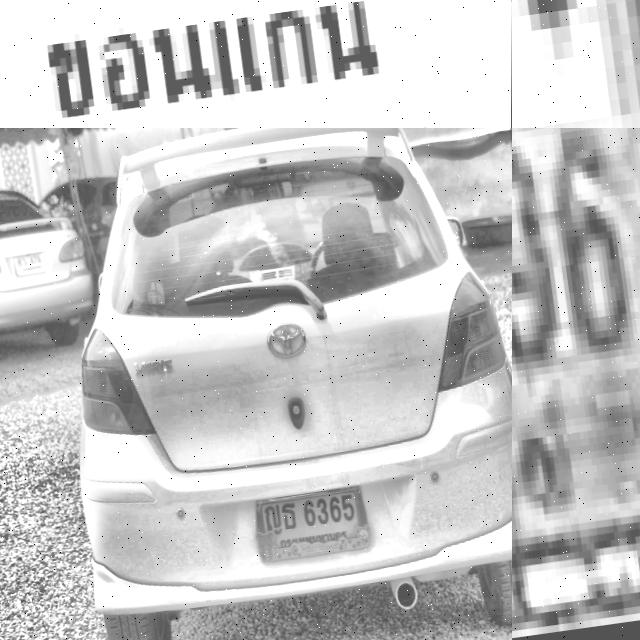license-plate: (0, 0, 512, 128), (512, 128, 640, 640), (512, 0, 640, 128), (251, 480, 375, 564), (12, 249, 50, 278)
